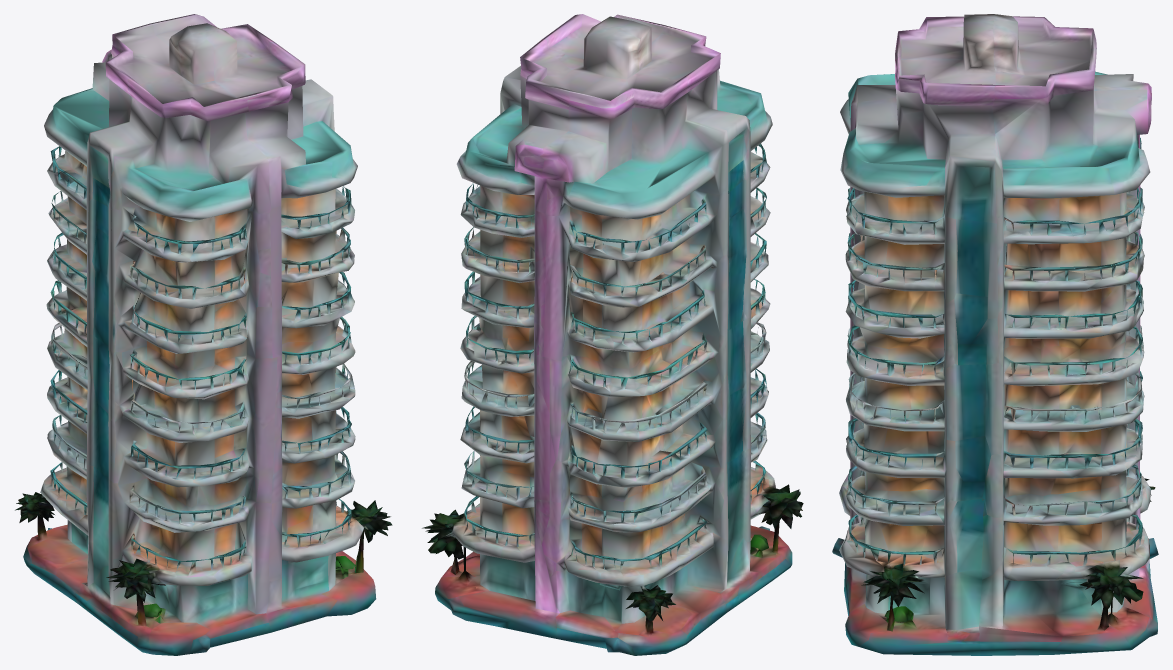
Rendered from condo-tower.glb.
The picture shows the model from 3 angles, left to right: view 1: azimuth 30°, elevation 25°; view 2: azimuth 150°, elevation 25°; view 3: azimuth 270°, elevation 25°; orthographic projection. The views are drawn at different scales.
Visible parts, largest first — view 1: tripo_node_ab30d3b3-df20-470a-8a8a-6df5425b4486; view 2: tripo_node_ab30d3b3-df20-470a-8a8a-6df5425b4486; view 3: tripo_node_ab30d3b3-df20-470a-8a8a-6df5425b4486.
Part boxes in pixels (x1,y1,x2,y2): tripo_node_ab30d3b3-df20-470a-8a8a-6df5425b4486: (15,14,392,655); tripo_node_ab30d3b3-df20-470a-8a8a-6df5425b4486: (422,14,803,655); tripo_node_ab30d3b3-df20-470a-8a8a-6df5425b4486: (832,14,1158,655).
Bounding box in the file's own units: 0.5349 × 0.9992 × 0.5154.
1 material, 1 textured.
